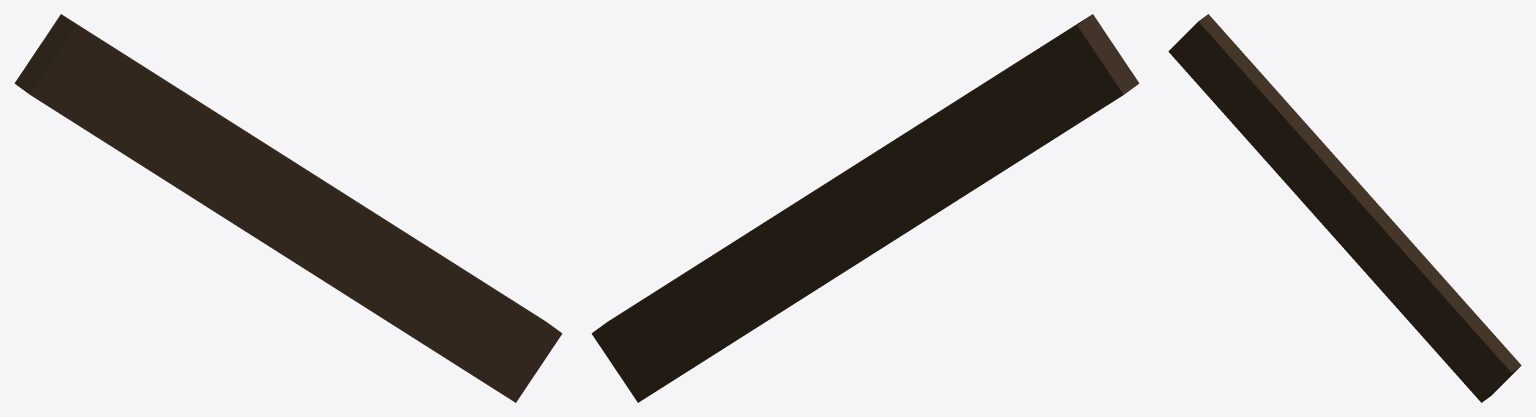
File: prop.glb
The picture shows the model from 3 angles, left to right: view 1: azimuth 30°, elevation 25°; view 2: azimuth 150°, elevation 25°; view 3: azimuth 330°, elevation 25°; orthographic projection. The views are drawn at different scales.
Visible parts, largest first — view 1: Prop; view 2: Prop; view 3: Prop.
Part boxes in pixels (x1,y1,x2,y2): Prop: (14,14,562,402); Prop: (591,14,1139,402); Prop: (1168,14,1521,402).
Bounding box in the file's own units: 0.5877 × 0.5112 × 0.03.
